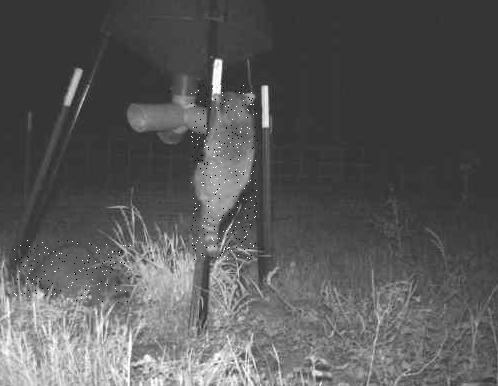Raccoon: (190, 85, 257, 260), (13, 240, 131, 303)
